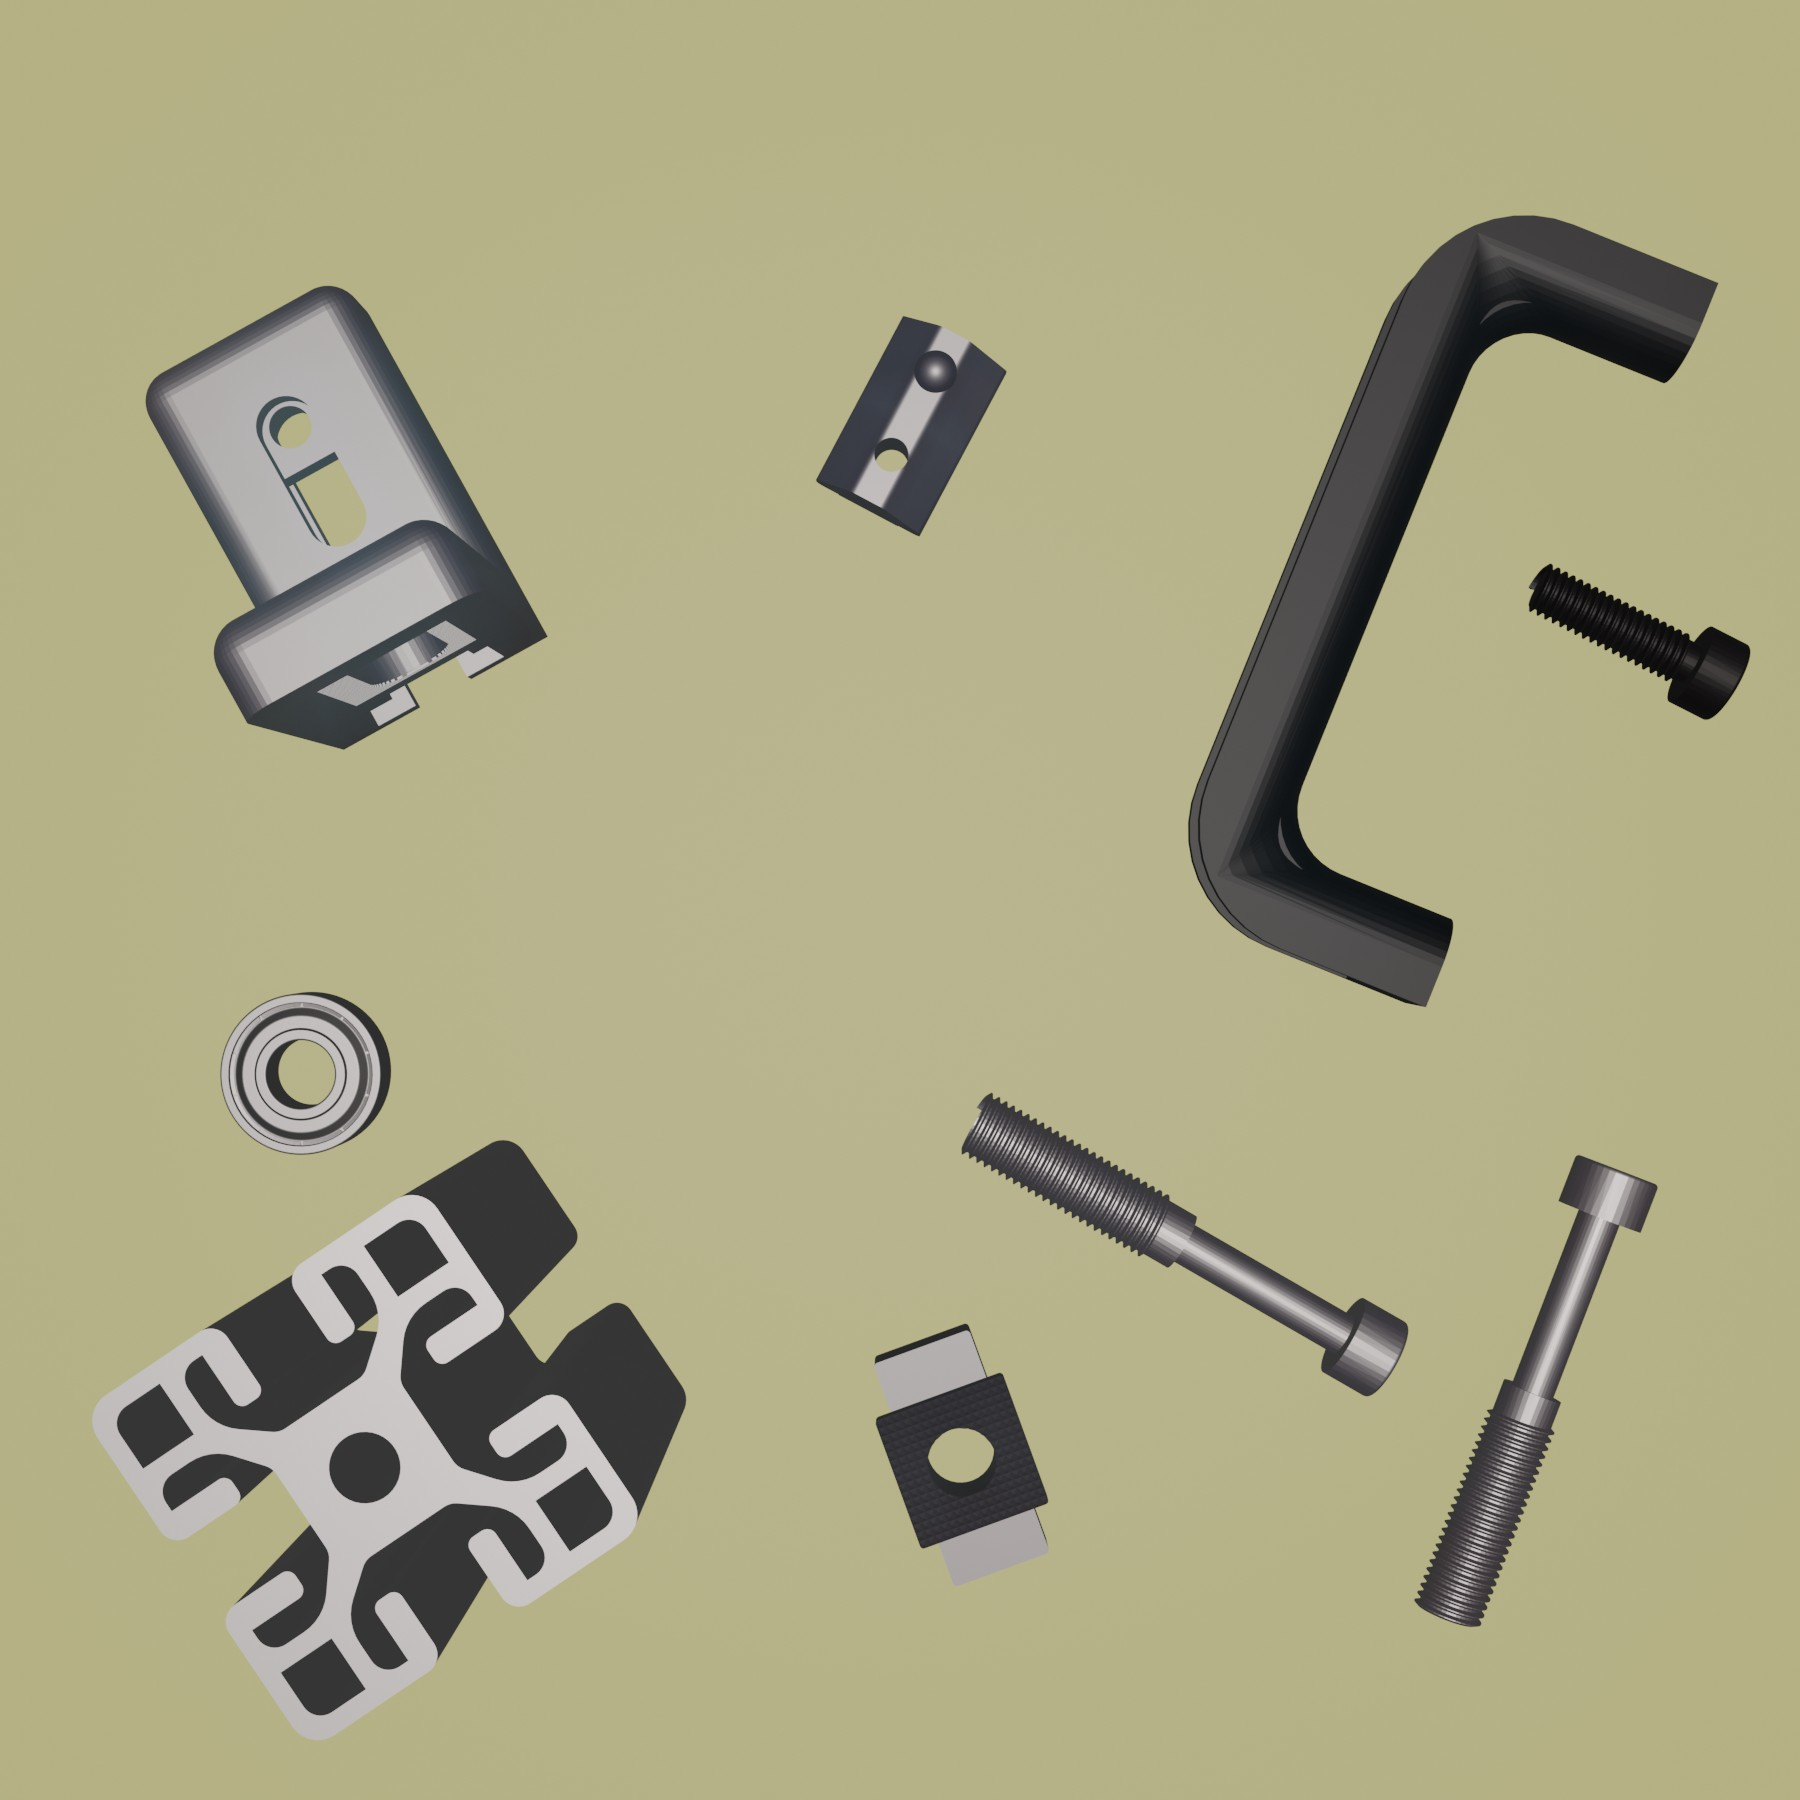Aluminium Extension: (89, 1136, 689, 1746)
Ball Bearing: (218, 989, 392, 1157)
Multiwinkel: (143, 284, 547, 753)
Pull Handle: (1185, 211, 1721, 1009)
Shoulder Socket Head Cap Screw: (954, 1090, 1409, 1399), (1411, 1149, 1658, 1630)
Socket Head Cap Screw: (1521, 559, 1752, 724)
T Nut Square: (865, 1319, 1057, 1591)
T Spring Nut: (813, 313, 1009, 537)
